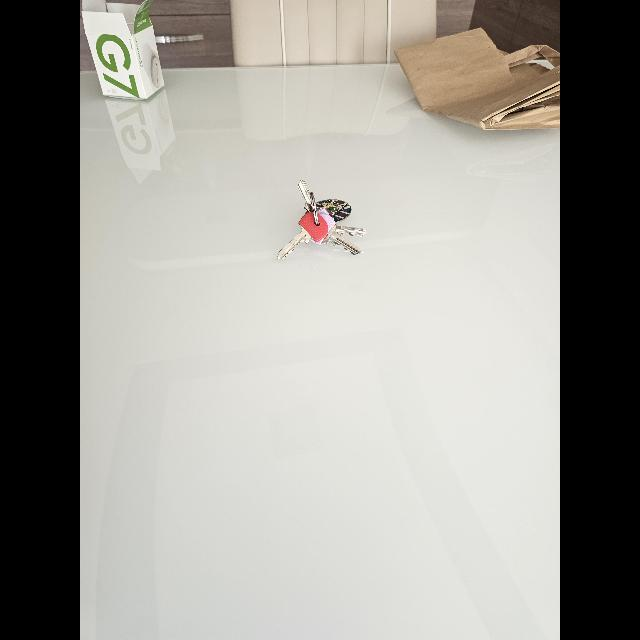Keys: (277, 180, 367, 260)
